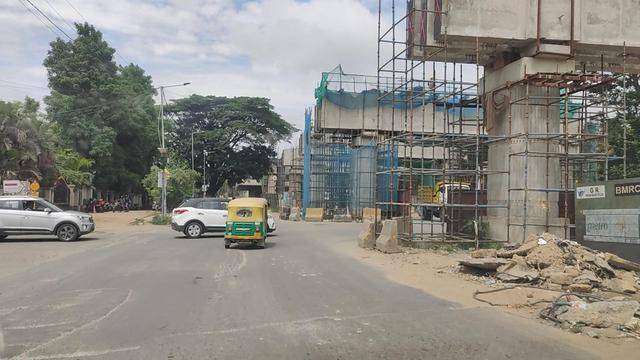LMV: (0, 200, 95, 236), (171, 194, 236, 234), (224, 201, 268, 248)
RoadDamages: (84, 282, 137, 330), (38, 339, 147, 360), (209, 250, 253, 285)
